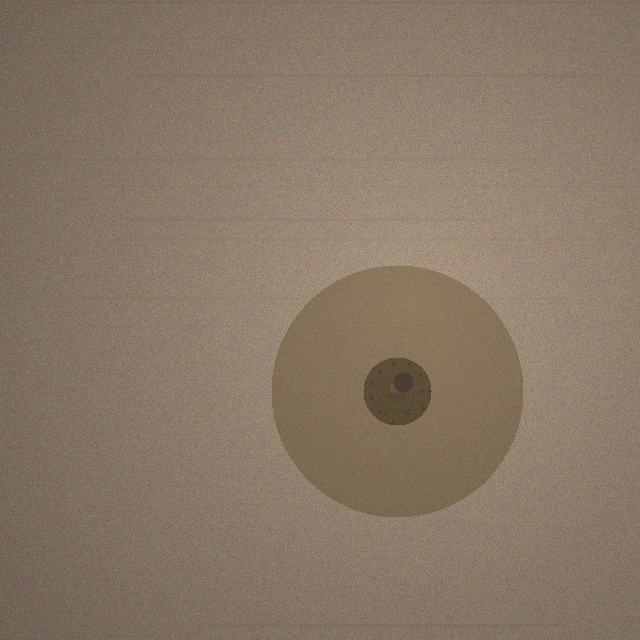cold_weld: (271, 265, 523, 517)
